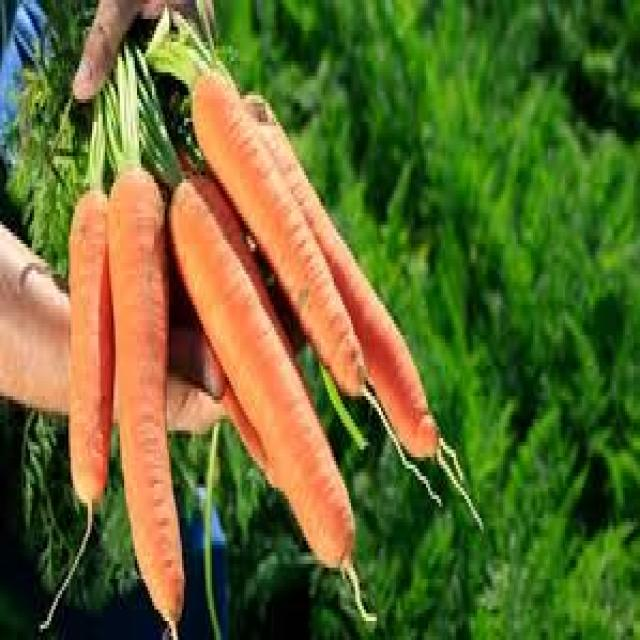Carrot: (109, 166, 187, 627)
